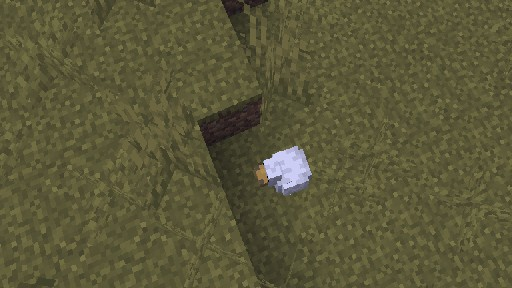chicken: (253, 144, 311, 196)
